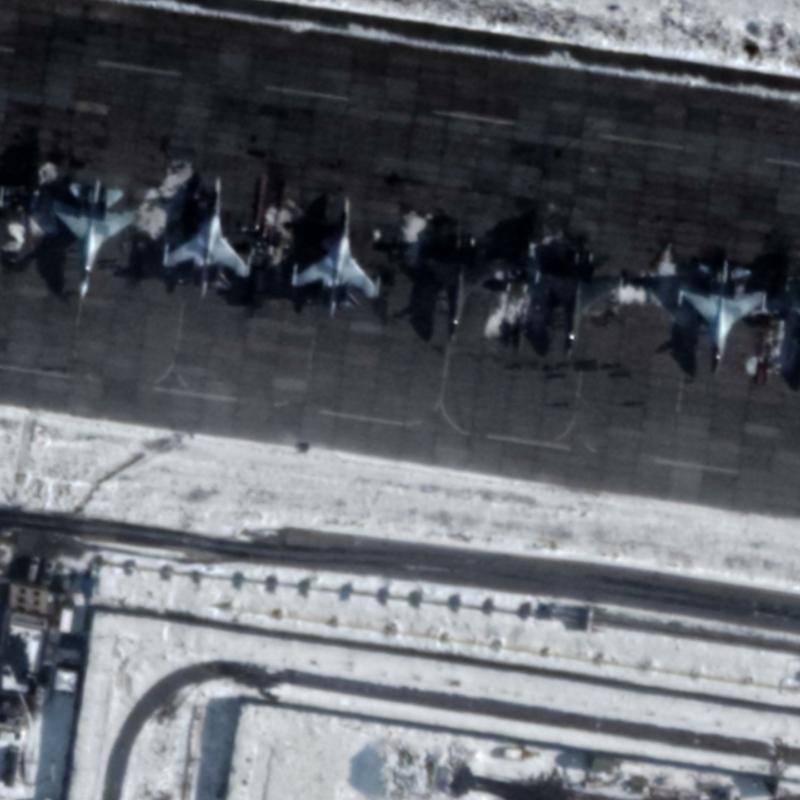A1: (157, 173, 254, 304), (287, 191, 384, 319), (48, 175, 141, 304), (672, 256, 771, 377), (415, 227, 508, 348), (537, 248, 624, 362)
